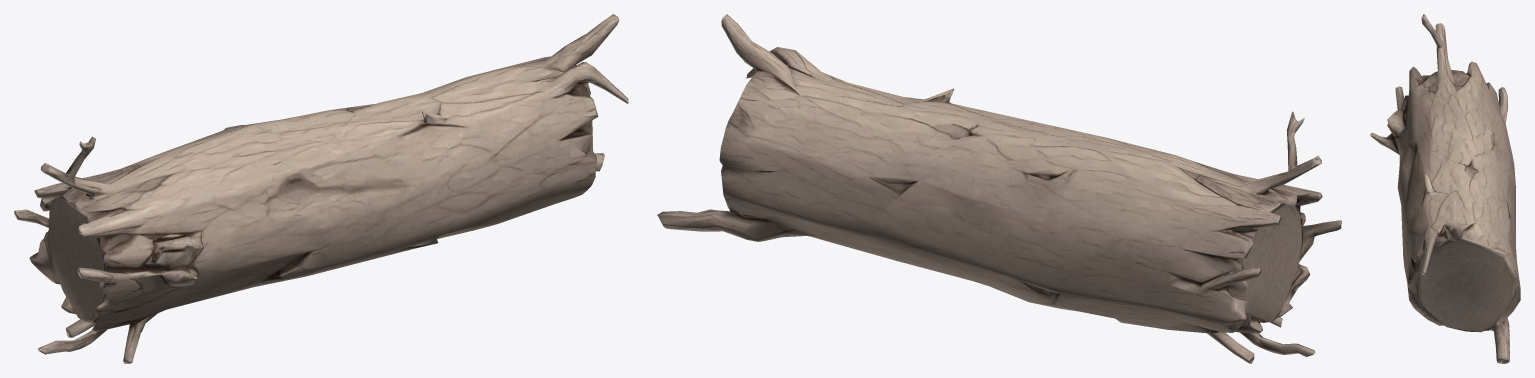
File: driftwood.glb
The picture shows the model from 3 angles, left to right: view 1: azimuth 30°, elevation 25°; view 2: azimuth 150°, elevation 25°; view 3: azimuth 270°, elevation 25°; orthographic projection. The views are drawn at different scales.
Bounding box in the file's own units: 1.88 × 0.6669 × 0.558.
Materials: 1 (1 with a texture image).
